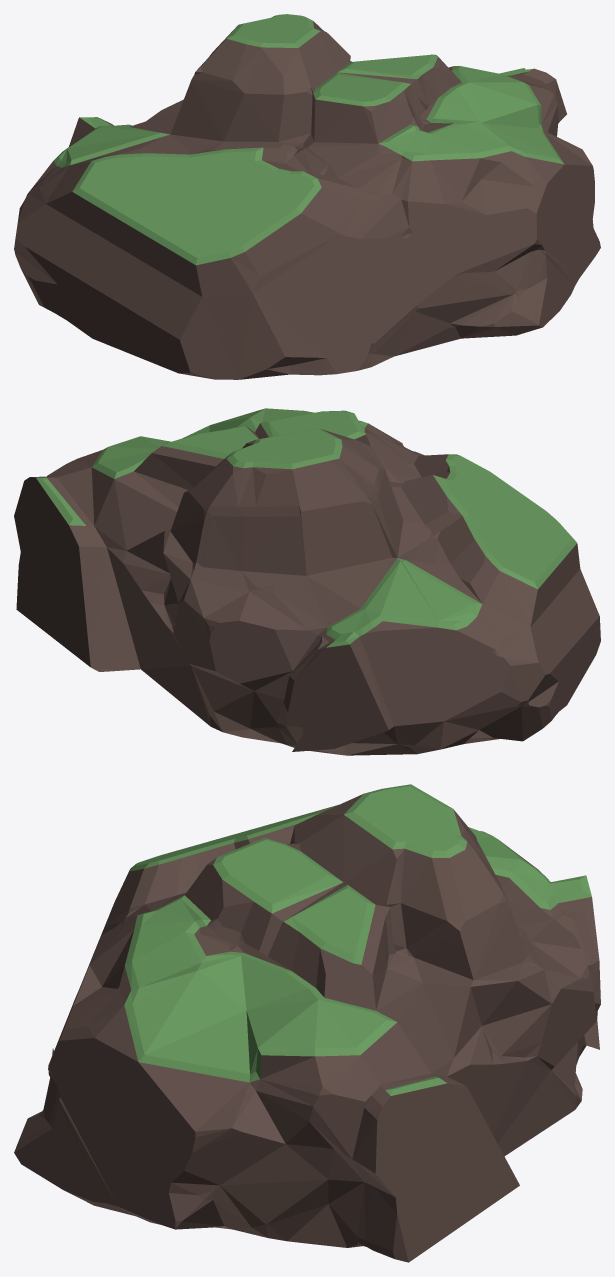
File: Cliff 18.fbx
3 renders of one model, top to bottom at view 1: azimuth 30°, elevation 25°; view 2: azimuth 150°, elevation 25°; view 3: azimuth 270°, elevation 25°, orthographic. The views are drawn at different scales.
Parts seen in each view (by area): view 1: Cliff 24; view 2: Cliff 24; view 3: Cliff 24.
Boxes of the visible parts, x1,y1,x2,y2 form: Cliff 24: (14, 14, 600, 379); Cliff 24: (14, 408, 600, 755); Cliff 24: (14, 784, 600, 1262).
Size of the model in its own units: 2.24 by 0.9178 by 1.67.
